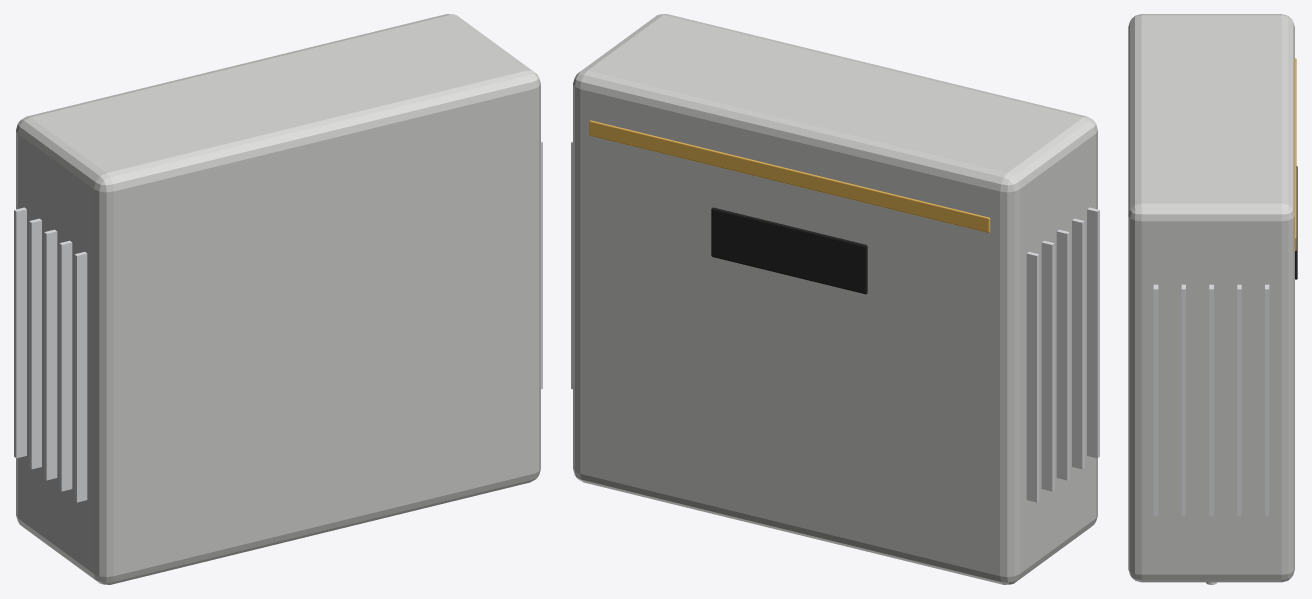
File: growatt-min-6000tl-x.glb
3 views of the same model, side by side, from view 1: azimuth 30°, elevation 25°; view 2: azimuth 150°, elevation 25°; view 3: azimuth 270°, elevation 25° (orthographic). The views are drawn at different scales.
Parts seen in each view (by area): view 1: body, fin--1-1, fin--1-0, fin--1-2, fin--1-3, fin--1-4; view 2: body, display, stripe, fin--1-3, fin--1-4, fin--1-2, fin--1-1, fin--1-0; view 3: body, fin-1-0, fin-1-2, fin-1-3, fin-1-1, fin-1-4, stripe, display.
Boxes of the visible parts, x1=… form: body: x1=16, y1=14, x2=540, y2=584; fin--1-1: x1=59, y1=240, x2=72, y2=491; fin--1-0: x1=74, y1=252, x2=87, y2=502; fin--1-2: x1=44, y1=229, x2=57, y2=480; fin--1-3: x1=29, y1=218, x2=41, y2=469; fin--1-4: x1=14, y1=207, x2=26, y2=458; body: x1=573, y1=14, x2=1097, y2=584; display: x1=711, y1=207, x2=867, y2=294; stripe: x1=589, y1=120, x2=990, y2=232; fin--1-3: x1=1041, y1=240, x2=1054, y2=491; fin--1-4: x1=1026, y1=252, x2=1039, y2=502; fin--1-2: x1=1056, y1=229, x2=1069, y2=480; fin--1-1: x1=1072, y1=218, x2=1084, y2=469; fin--1-0: x1=1087, y1=207, x2=1099, y2=458; body: x1=1128, y1=14, x2=1294, y2=582; fin-1-0: x1=1153, y1=284, x2=1158, y2=515; fin-1-2: x1=1209, y1=284, x2=1213, y2=515; fin-1-3: x1=1237, y1=284, x2=1241, y2=515; fin-1-1: x1=1181, y1=284, x2=1185, y2=515; fin-1-4: x1=1265, y1=284, x2=1269, y2=515; stripe: x1=1295, y1=58, x2=1296, y2=250; display: x1=1295, y1=166, x2=1297, y2=279.
Size of the model in its own units: 0.445 by 0.393 by 0.1525.
